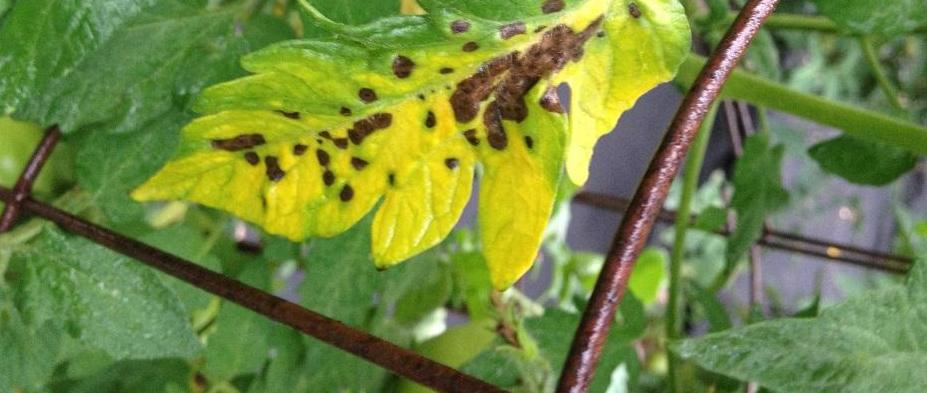Tomato leaf bacterial spot: (115, 0, 708, 293)
